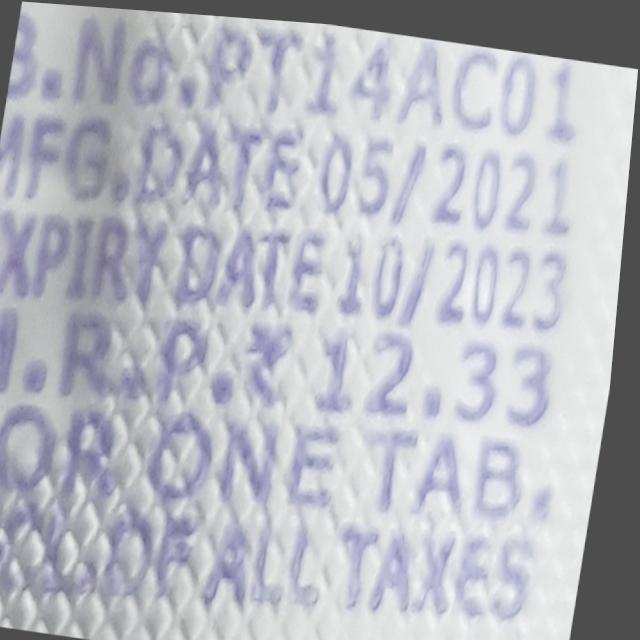sentence: (0, 475, 541, 620), (0, 94, 572, 226), (0, 291, 557, 426), (8, 7, 577, 136), (0, 400, 561, 529), (0, 207, 568, 321)
